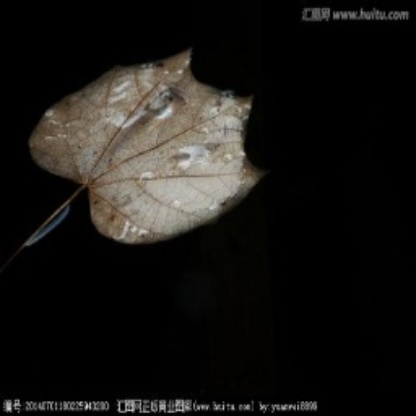leaf: (19, 46, 264, 265)
